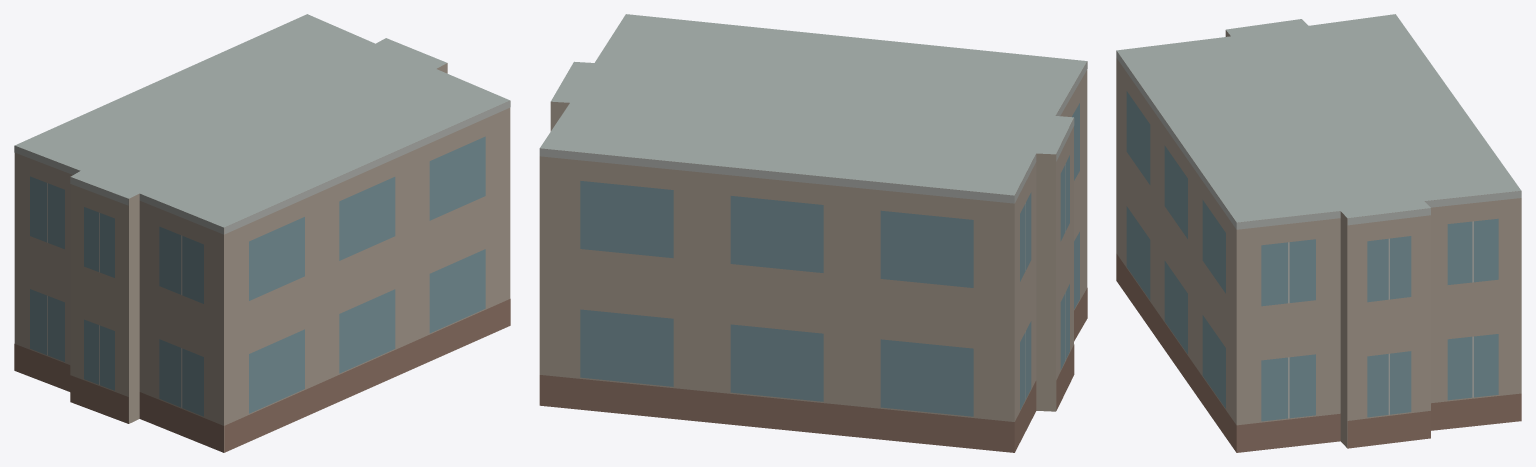
The model's file is survey-upis-32732728.glb.
The picture shows the model from 3 angles, left to right: view 1: azimuth 30°, elevation 25°; view 2: azimuth 150°, elevation 25°; view 3: azimuth 270°, elevation 25°; orthographic projection. The views are drawn at different scales.
Visible parts, largest first — view 1: survey-upis-32732728.tmp; view 2: survey-upis-32732728.tmp; view 3: survey-upis-32732728.tmp.
Part boxes in pixels (box(x1,y1,x2,y2)): survey-upis-32732728.tmp: box(14, 14, 510, 452); survey-upis-32732728.tmp: box(539, 14, 1087, 452); survey-upis-32732728.tmp: box(1116, 14, 1521, 452).
Bounding box in the file's own units: 15.16 × 7.8 × 12.44.
